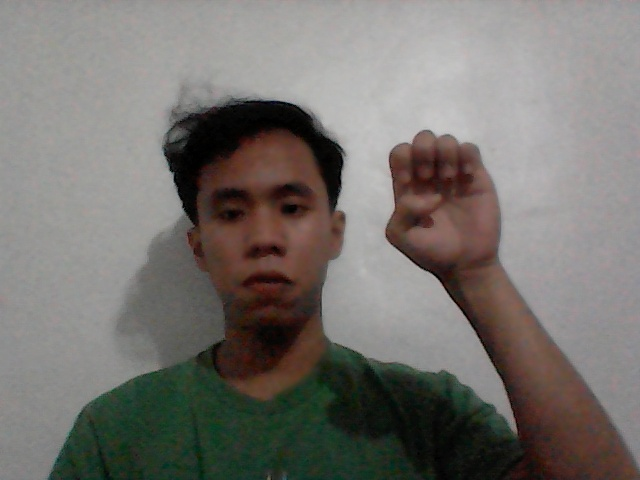E: (357, 108, 533, 297)
